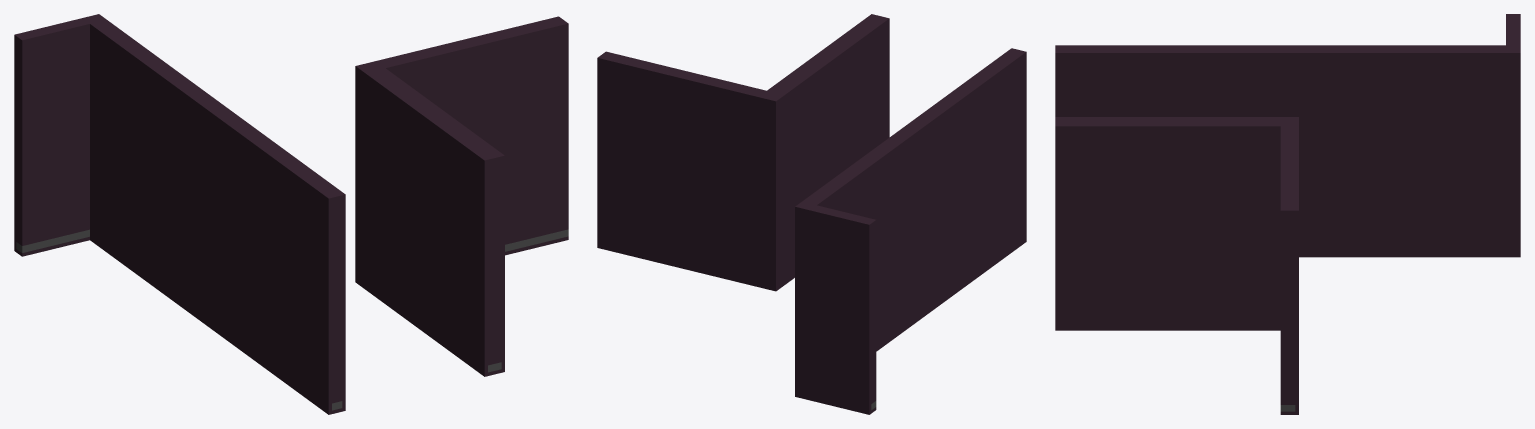
The model's file is Chanks-3.obj.
3 renders of one model, left to right at view 1: azimuth 30°, elevation 25°; view 2: azimuth 150°, elevation 25°; view 3: azimuth 270°, elevation 25°, orthographic. The views are drawn at different scales.
Bounding box in the file's own units: 12.6 × 6.1 × 12.6.
Materials: 1 (1 with a texture image).
